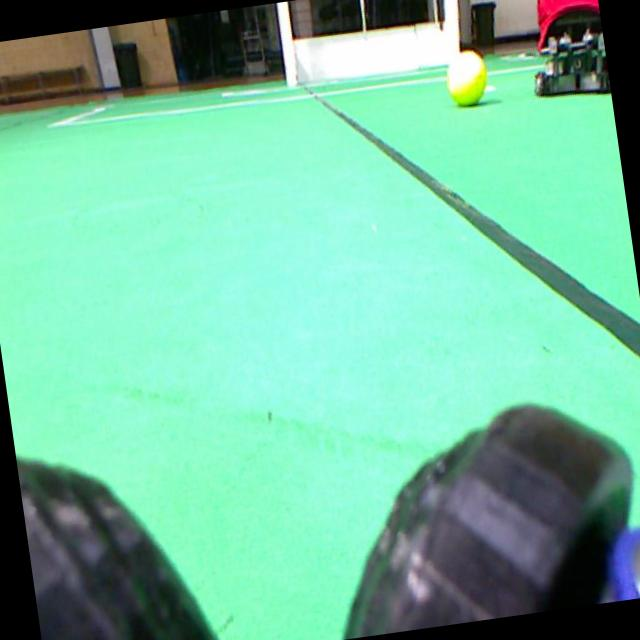ball: (446, 50, 486, 105)
goal: (276, 2, 297, 86), (443, 0, 459, 60)
